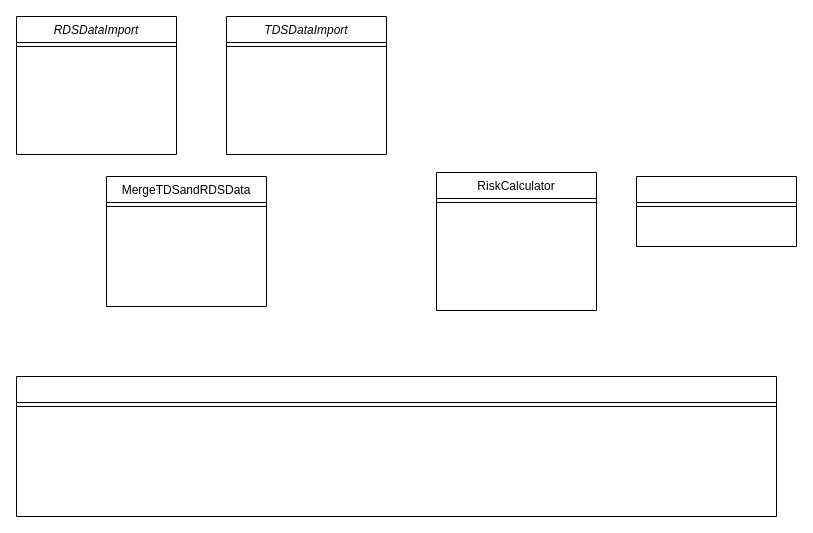
Some shapes in this 813 by 533 pixel diagram are drawn without their labels. Each missing label, with the box of its shape:
DataController: (16, 376, 776, 516)
ExcelReportGeneration: (636, 176, 796, 246)
